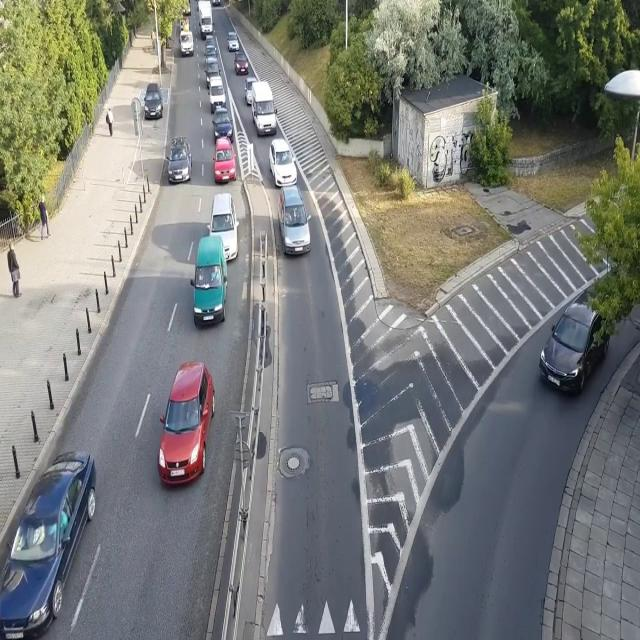car: (0, 450, 97, 640), (540, 287, 613, 397), (157, 362, 216, 486), (206, 193, 240, 260), (268, 137, 298, 187), (165, 136, 192, 183), (212, 137, 236, 183), (212, 108, 234, 143), (144, 82, 163, 120), (244, 76, 258, 106), (233, 52, 250, 76), (227, 31, 240, 52), (204, 45, 217, 59), (205, 35, 218, 49), (182, 2, 191, 16), (212, 0, 221, 6)
truck: (198, 1, 215, 40), (178, 17, 194, 57)
van: (189, 234, 228, 327), (277, 185, 312, 256), (251, 81, 279, 137), (207, 76, 226, 111)
